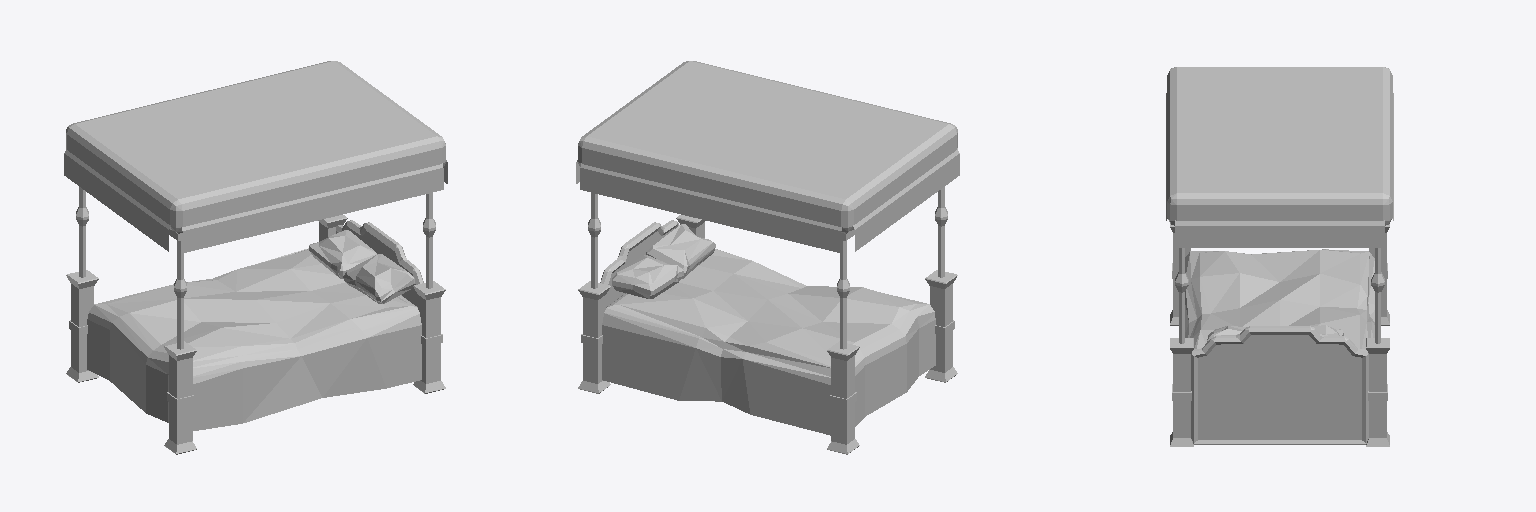
The model's file is bed_big.obj.
The picture shows the model from 3 angles: view 1: azimuth 30°, elevation 25°; view 2: azimuth 150°, elevation 25°; view 3: azimuth 270°, elevation 25°; orthographic projection.
Parts seen in each view (by area): view 1: bed_nice_mesh; view 2: bed_nice_mesh; view 3: bed_nice_mesh.
Part boxes in pixels (bbox=[...]): bed_nice_mesh: bbox=[64, 61, 447, 454]; bed_nice_mesh: bbox=[576, 61, 959, 454]; bed_nice_mesh: bbox=[1166, 67, 1393, 446].
Bounding box in the file's own units: 3.42 × 2.95 × 2.43.